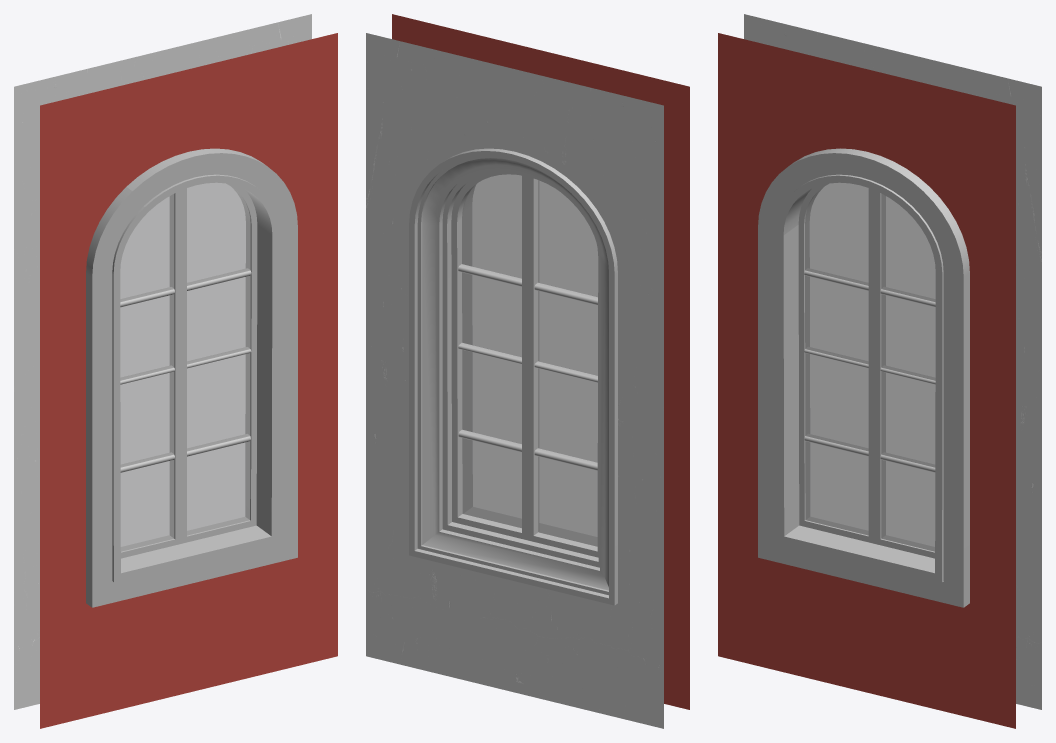
Rendered from SM_BuildingFacade_Window_400x200uu_07.fbx.
The picture shows the model from 3 angles, left to right: view 1: azimuth 30°, elevation 25°; view 2: azimuth 150°, elevation 25°; view 3: azimuth 330°, elevation 25°; orthographic projection.
Parts seen in each view (by area): view 1: Mesh (32); view 2: Mesh (32); view 3: Mesh (32).
Part boxes in pixels (x1,y1,x2,y2): Mesh (32): [14, 14, 337, 728]; Mesh (32): [366, 14, 689, 728]; Mesh (32): [718, 14, 1041, 728].
Bounding box in the file's own units: 200 × 400 × 42.39.
